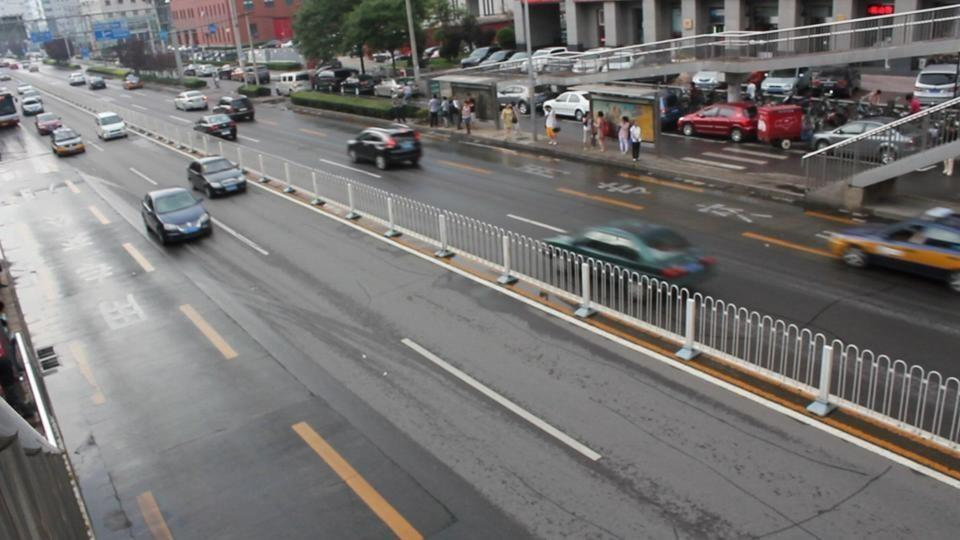car: (815, 208, 960, 292), (543, 221, 720, 287), (140, 186, 213, 246), (808, 117, 906, 159), (344, 125, 424, 170), (676, 102, 760, 142), (187, 155, 248, 198), (911, 61, 960, 110), (758, 67, 813, 102), (458, 47, 523, 70), (544, 91, 590, 122), (215, 95, 256, 124), (193, 114, 237, 141), (50, 126, 86, 157), (94, 110, 127, 142), (373, 79, 412, 99), (174, 90, 211, 111), (0, 94, 21, 129), (34, 112, 63, 137), (20, 94, 45, 116), (87, 76, 107, 90)
